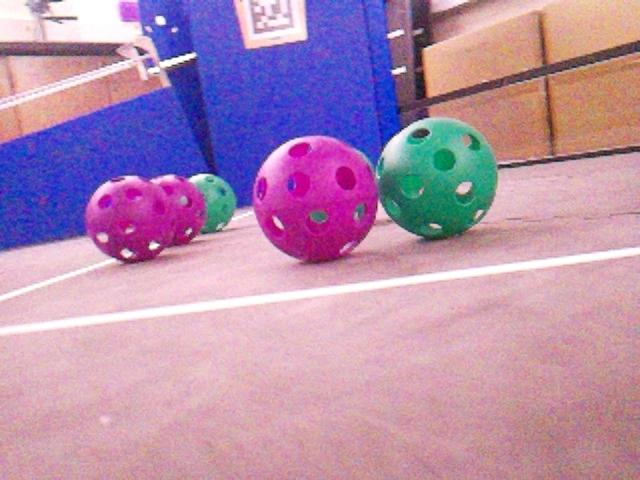Green: (374, 117, 497, 238), (186, 174, 236, 234)
Purple: (251, 135, 378, 261), (83, 174, 175, 262), (145, 173, 208, 245)
